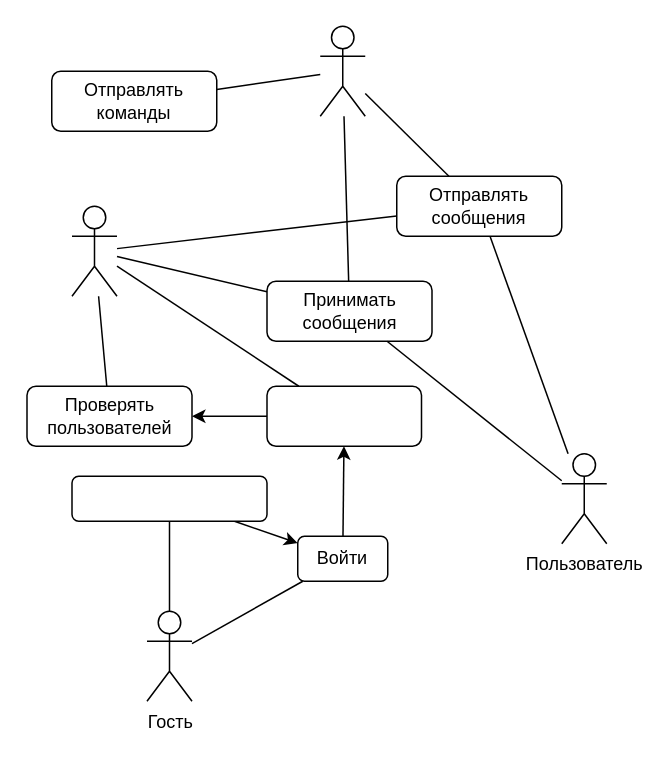
The diagram is 668 pixels wide and 759 high, and some of its shapes have lost their labels. Each missing label, with the box of its shape:
Администратор: (319, 25, 365, 116)
Зарегистрироваться: (70, 475, 267, 521)
Принимать пользователей: (266, 385, 422, 446)
Сервер: (70, 205, 117, 296)
